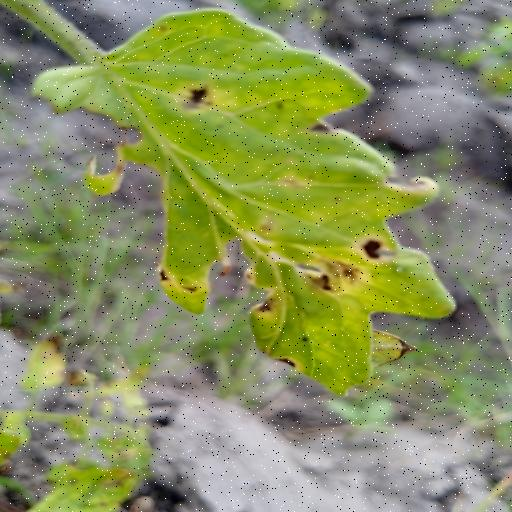Tomato_Brown_Spots: (30, 5, 459, 400)
